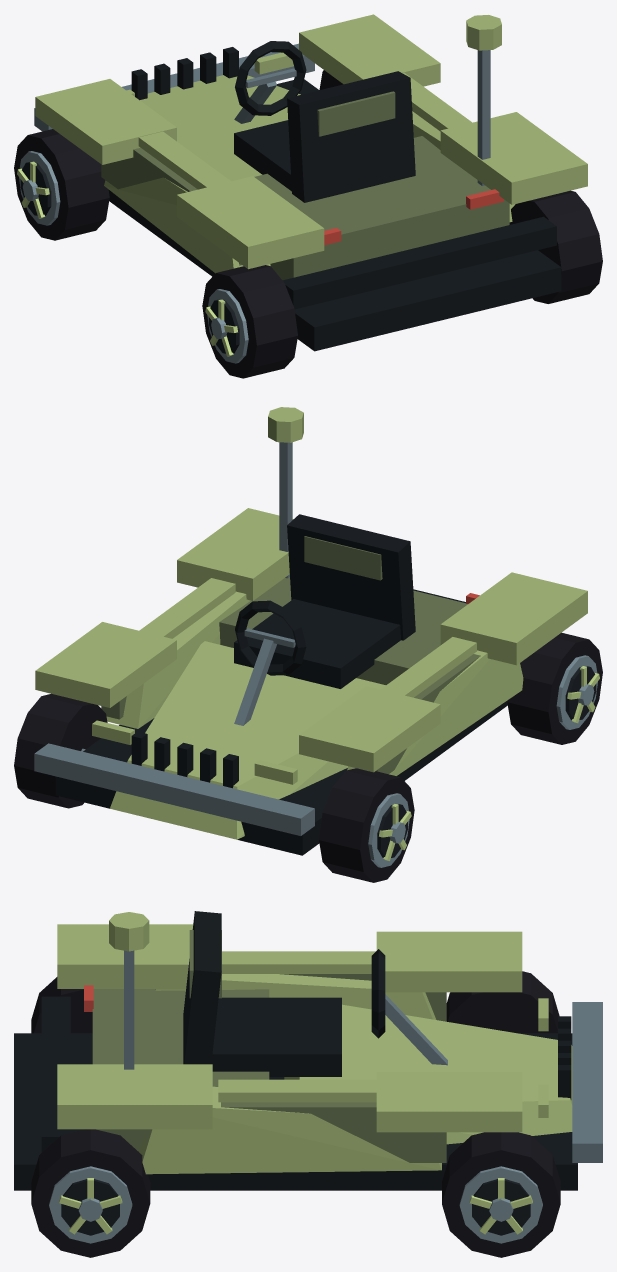
File: kart.glb
3 renders of one model, top to bottom at view 1: azimuth 30°, elevation 25°; view 2: azimuth 150°, elevation 25°; view 3: azimuth 270°, elevation 25°, orthographic. The views are drawn at different scales.
Parts seen in each view (by area): view 1: chassis, wheel-rear-left, wheel-front-left, wheel-rear-right; view 2: chassis, wheel-front-left, wheel-rear-left, wheel-front-right; view 3: chassis, wheel-rear-right, wheel-front-right, wheel-front-left, wheel-rear-left.
Part boxes in pixels (x1,y1,x2,y2): chassis: [34, 14, 587, 351]; wheel-rear-left: [202, 265, 297, 378]; wheel-front-left: [14, 129, 109, 240]; wheel-rear-right: [509, 190, 602, 303]; chassis: [34, 407, 587, 855]; wheel-front-left: [319, 768, 414, 882]; wheel-rear-left: [507, 632, 602, 744]; wheel-front-right: [14, 693, 107, 808]; chassis: [14, 911, 602, 1190]; wheel-rear-right: [31, 1129, 150, 1257]; wheel-front-right: [442, 1132, 560, 1257]; wheel-front-left: [446, 971, 559, 1033]; wheel-rear-left: [31, 977, 92, 1033].
Size of the model in its own units: 2.44 by 1.72 by 3.07.
